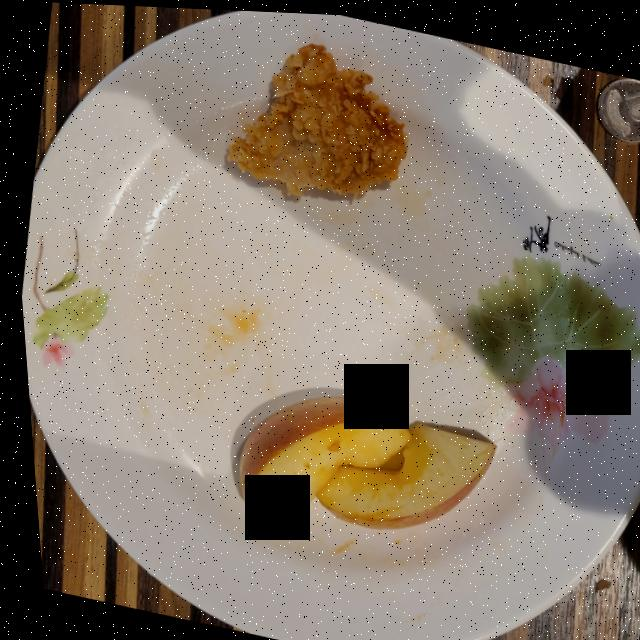apple -sliced-: (232, 393, 488, 524)
coin: (595, 71, 640, 136)
fried chicken cutlet: (225, 39, 405, 193)
